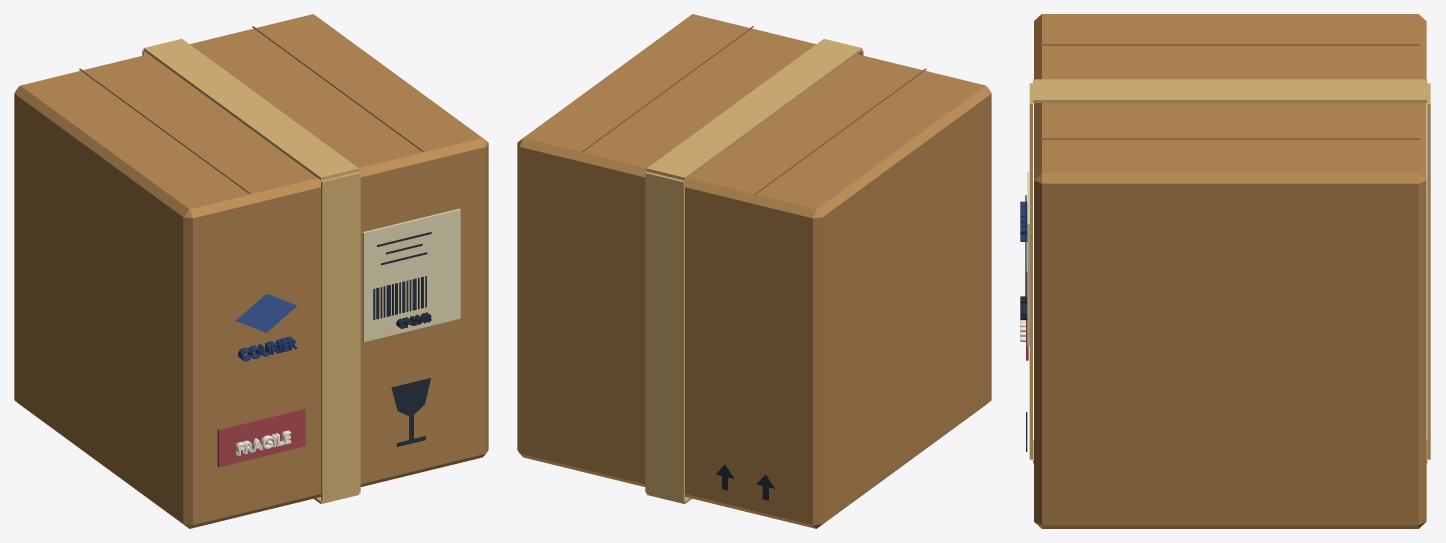
File: prop_parcel_fragile.glb
3 renders of one model, left to right at view 1: azimuth 30°, elevation 25°; view 2: azimuth 150°, elevation 25°; view 3: azimuth 270°, elevation 25°, orthographic. The views are drawn at different scales.
Parts seen in each view (by area): view 1: prop_parcel_fragile__Cardboard body, prop_parcel_fragile__Tape side -1, prop_parcel_fragile__Shipping label, prop_parcel_fragile__Top packing tape, prop_parcel_fragile__Fragile sticker, prop_parcel_fragile__Courier emblem, prop_parcel_fragile__Fragile glass bowl, prop_parcel_fragile__Courier label, prop_parcel_fragile__Fragile sticker letters; view 2: prop_parcel_fragile__Cardboard body, prop_parcel_fragile__Tape side 1, prop_parcel_fragile__Top packing tape; view 3: prop_parcel_fragile__Cardboard body, prop_parcel_fragile__Top packing tape, prop_parcel_fragile__Tape side 1, prop_parcel_fragile__Tape side -1, prop_parcel_fragile__Top fold seam 1, prop_parcel_fragile__Top fold seam -1, prop_parcel_fragile__Shipping label.
Boxes of the visible parts, x1,y1,x2,y2 form: prop_parcel_fragile__Cardboard body: (14, 14, 488, 528); prop_parcel_fragile__Tape side -1: (321, 172, 360, 501); prop_parcel_fragile__Shipping label: (362, 208, 460, 341); prop_parcel_fragile__Top packing tape: (143, 39, 359, 180); prop_parcel_fragile__Fragile sticker: (217, 408, 305, 467); prop_parcel_fragile__Courier emblem: (236, 293, 297, 332); prop_parcel_fragile__Fragile glass bowl: (391, 378, 430, 415); prop_parcel_fragile__Courier label: (238, 336, 297, 361); prop_parcel_fragile__Fragile sticker letters: (236, 430, 291, 455); prop_parcel_fragile__Cardboard body: (517, 14, 991, 528); prop_parcel_fragile__Tape side 1: (645, 172, 684, 501); prop_parcel_fragile__Top packing tape: (646, 39, 862, 180); prop_parcel_fragile__Cardboard body: (1034, 14, 1426, 528); prop_parcel_fragile__Top packing tape: (1033, 79, 1427, 102); prop_parcel_fragile__Tape side 1: (1427, 83, 1430, 459); prop_parcel_fragile__Tape side -1: (1029, 83, 1032, 459); prop_parcel_fragile__Top fold seam 1: (1040, 138, 1419, 139); prop_parcel_fragile__Top fold seam -1: (1040, 44, 1419, 45); prop_parcel_fragile__Shipping label: (1027, 172, 1029, 345).
Size of the model in its own units: 0.6 by 0.613 by 0.629.
